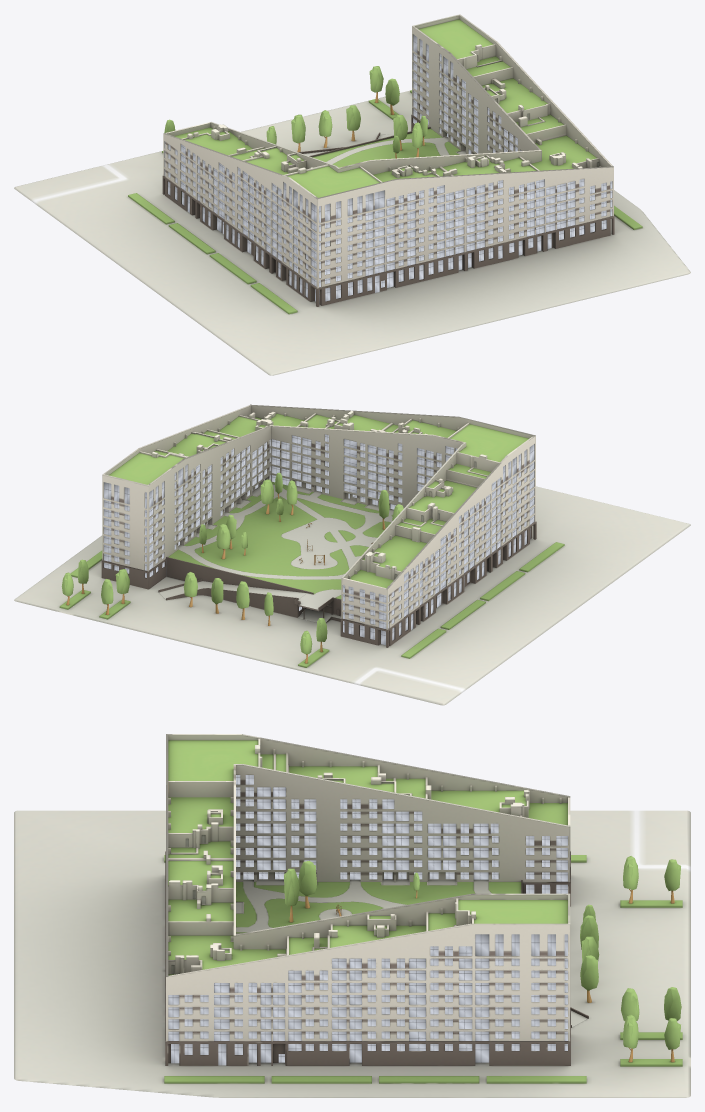
Rendered from mikhailovskiyext.glb.
3 renders of one model, top to bottom at view 1: azimuth 30°, elevation 25°; view 2: azimuth 150°, elevation 25°; view 3: azimuth 270°, elevation 25°, orthographic. The views are drawn at different scales.
Visible parts, largest first — view 1: Mikhailovsky.058, Mikhailovsky.063, w.005; view 2: Mikhailovsky.058, Mikhailovsky.063, w.005; view 3: Mikhailovsky.058, Mikhailovsky.063, w.005.
Part boxes in pixels (x1=…): Mikhailovsky.058: x1=128, y1=14, x2=642, y2=314; Mikhailovsky.063: x1=14, y1=90, x2=690, y2=375; w.005: x1=164, y1=34, x2=612, y2=303; Mikhailovsky.058: x1=59, y1=404, x2=564, y2=667; Mikhailovsky.063: x1=14, y1=486, x2=690, y2=705; w.005: x1=104, y1=434, x2=534, y2=645; Mikhailovsky.058: x1=164, y1=734, x2=682, y2=1083; Mikhailovsky.063: x1=14, y1=810, x2=690, y2=1097; w.005: x1=168, y1=775, x2=567, y2=1065.
Bounding box in the file's own units: 152 × 35.39 × 151.
1 material, 1 textured.
